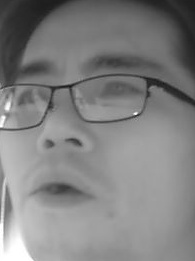glass: (68, 73, 150, 121), (1, 80, 53, 130)
mouth: (23, 169, 97, 210)
